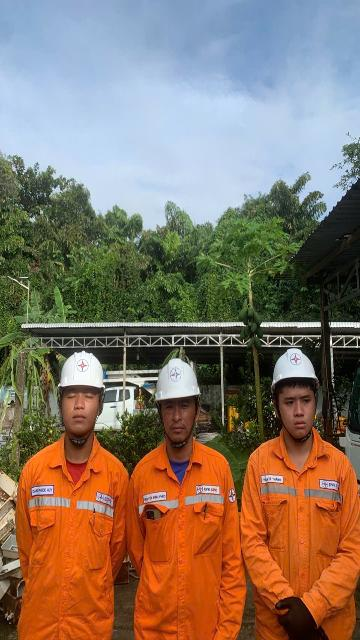gloves: (261, 591, 322, 640)
helmet: (146, 357, 205, 404), (56, 347, 107, 397), (268, 346, 320, 388)
